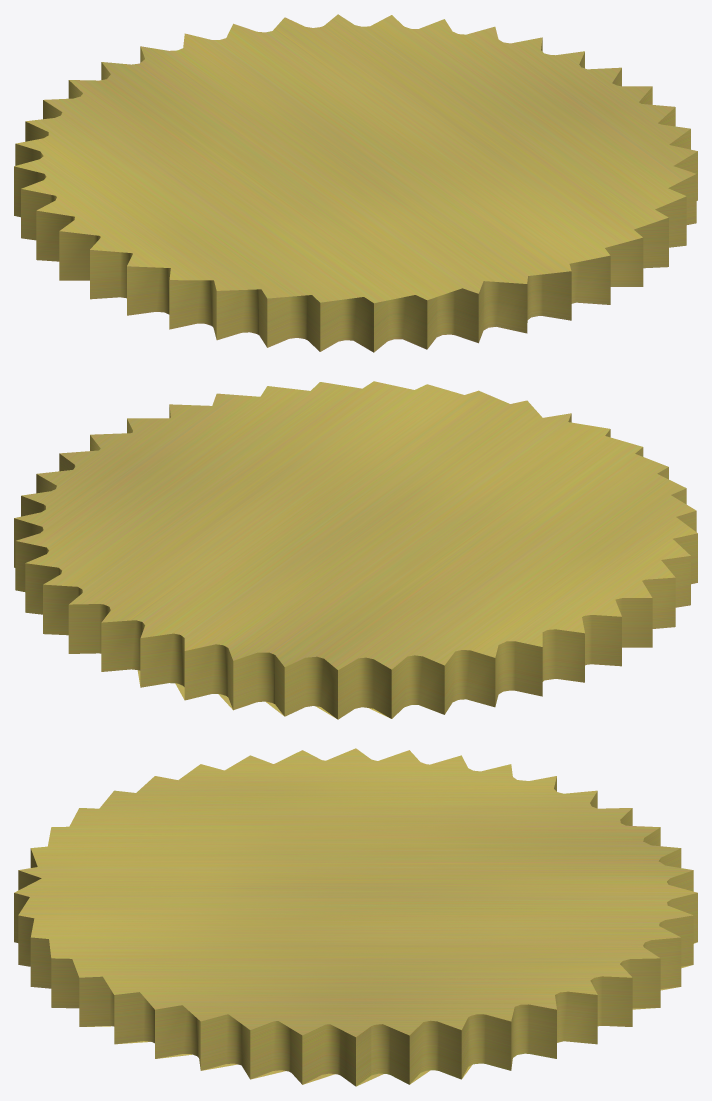
The model's file is Sprocket4Spoke040.fbx.
3 views of the same model, one above another, from view 1: azimuth 30°, elevation 25°; view 2: azimuth 150°, elevation 25°; view 3: azimuth 270°, elevation 25° (orthographic).
Visible parts, largest first — view 1: Sprocket4Spoke040; view 2: Sprocket4Spoke040; view 3: Sprocket4Spoke040.
Part boxes in pixels (<box>): Sprocket4Spoke040: <box>14,14,697,352</box>; Sprocket4Spoke040: <box>14,381,697,719</box>; Sprocket4Spoke040: <box>14,748,697,1086</box>.
Size of the model in its own units: 247 by 19.69 by 247.
